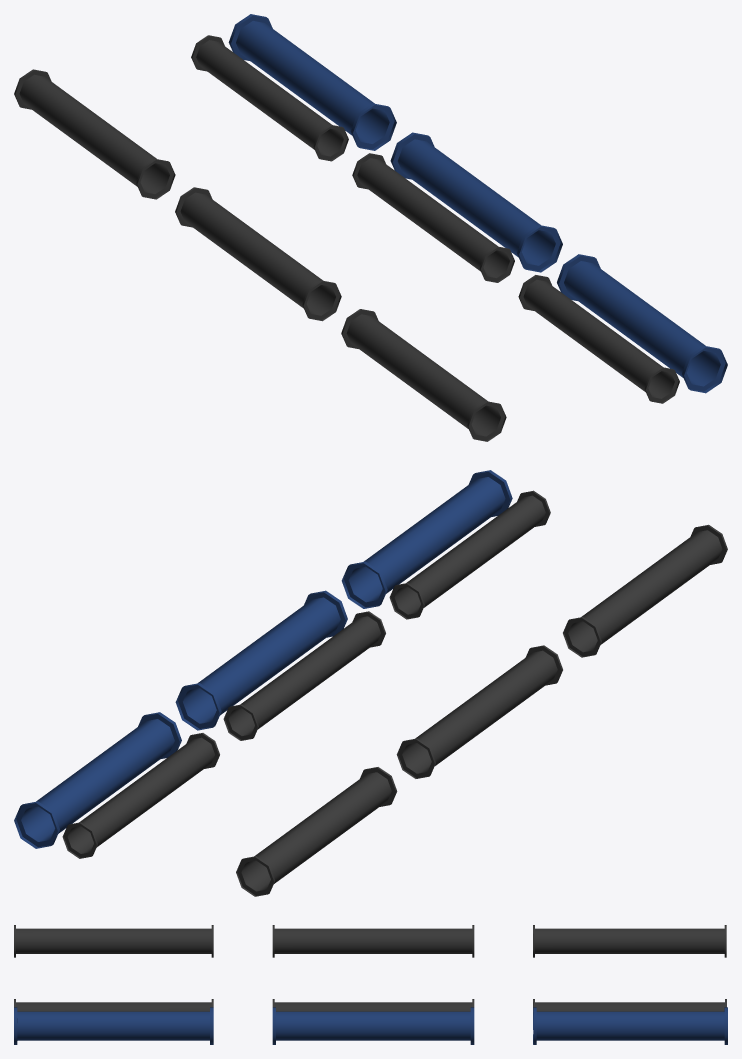
Rendered from SM_H_Building_Tide_Canteen_03K_ATLAS.fbx.
3 renders of one model, top to bottom at view 1: azimuth 30°, elevation 25°; view 2: azimuth 150°, elevation 25°; view 3: azimuth 270°, elevation 25°, orthographic. The views are drawn at different scales.
Parts seen in each view (by area): view 1: SM_H_Building_Tide_Canteen_03K_ATLAS; view 2: SM_H_Building_Tide_Canteen_03K_ATLAS; view 3: SM_H_Building_Tide_Canteen_03K_ATLAS.
Boxes of the visible parts, x1,y1,x2,y2 form: SM_H_Building_Tide_Canteen_03K_ATLAS: [14, 14, 727, 441]; SM_H_Building_Tide_Canteen_03K_ATLAS: [14, 470, 727, 896]; SM_H_Building_Tide_Canteen_03K_ATLAS: [14, 925, 727, 1044].
Bounding box in the file's own units: 268 × 813 × 45.4.
